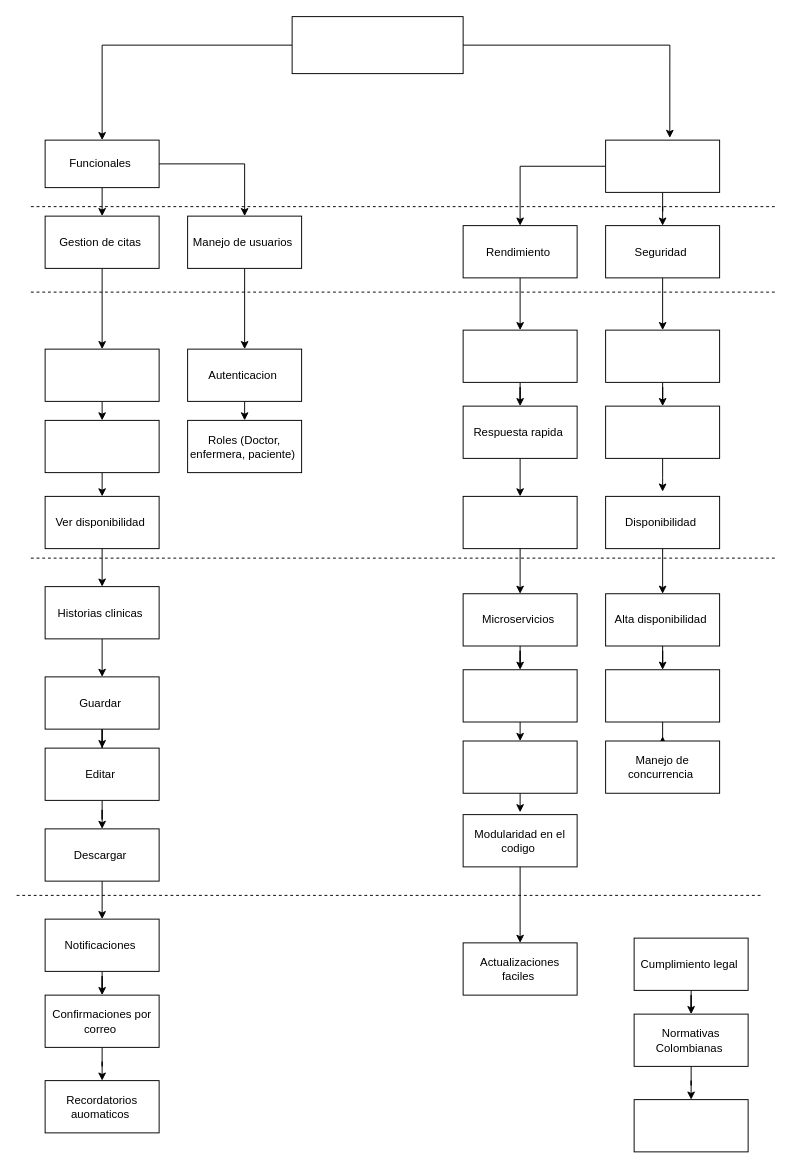
The diagram is 794 pixels wide and 1169 high, and some of its shapes have lost their labels. The box of each missing label's shape, as (x1, y1, x2, y2) in pixels:
Agendar citas: (44, 348, 159, 401)
Autenticaci[on segura. (Roles y permisos): (605, 405, 720, 458)
Baja latencia: (462, 329, 577, 382)
Cancelar citas: (44, 419, 159, 473)
Encriptacion de datos: (605, 329, 720, 382)
Escalabilidad: (462, 495, 577, 549)
Escalabilidad horizontal: (462, 669, 577, 722)
Mantenimiento: (462, 740, 577, 793)
No funcionales: (605, 139, 720, 192)
Protecci[on de datos: (633, 1099, 748, 1152)
Requerimientos Funcionales / No funcionales: (291, 16, 463, 74)
Tolerancia a fallos: (605, 669, 720, 722)
